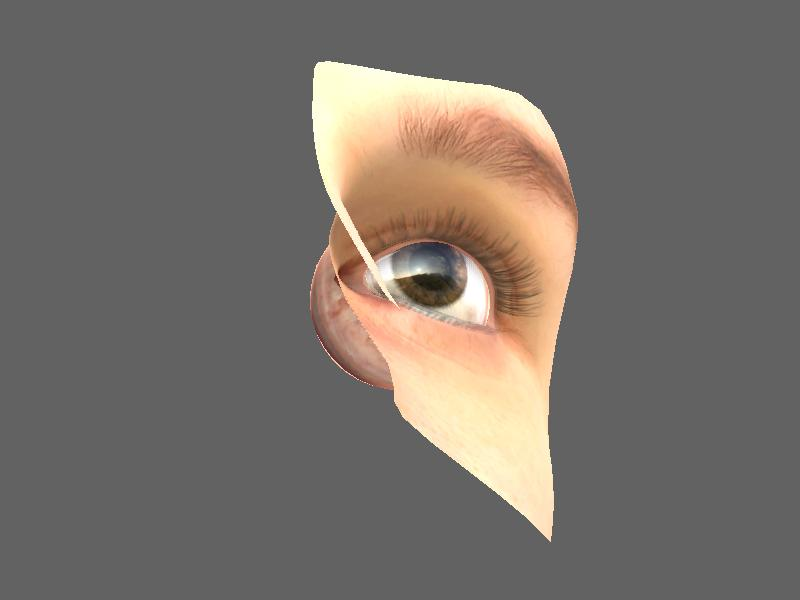iris: (395, 240, 479, 314)
